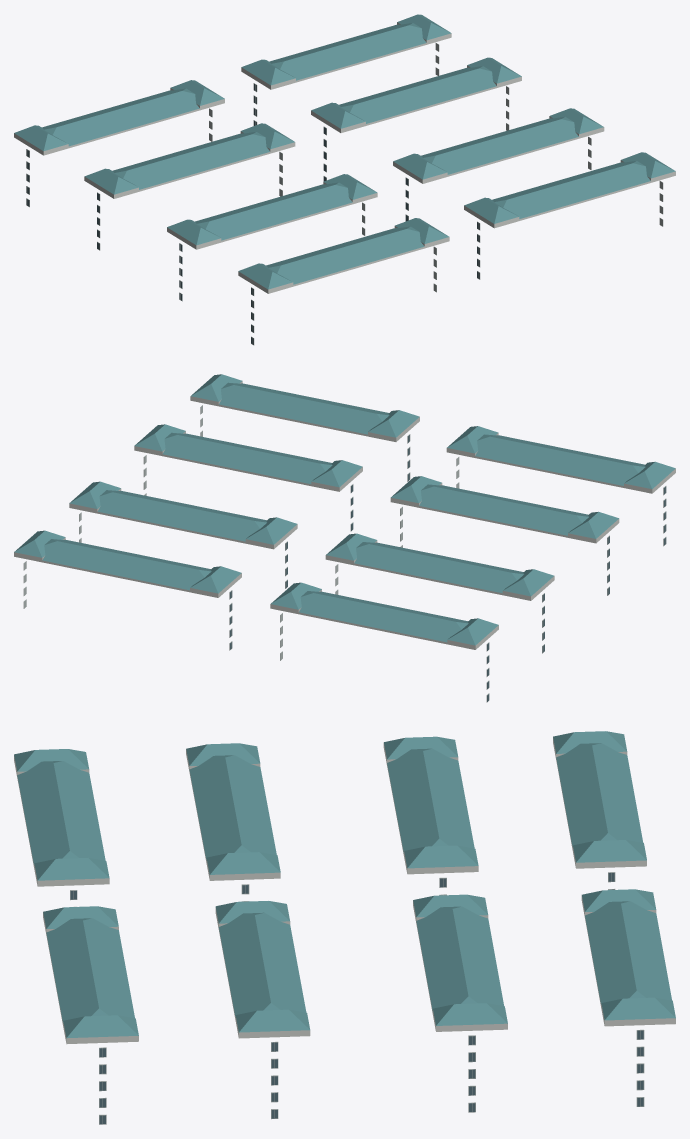
The model's file is seu_taoyuan_endheads_candidate.glb.
The picture shows the model from 3 angles, top to bottom: view 1: azimuth 30°, elevation 25°; view 2: azimuth 150°, elevation 25°; view 3: azimuth 270°, elevation 25°; orthographic projection. The views are drawn at different scales.
Visible parts, largest first — view 1: SEU_B_OSMWAY_630136428__DORM_ENDHEAD_central_roof, SEU_B_OSMWAY_630136424__DORM_ENDHEAD_central_roof, SEU_B_OSMWAY_630136426__DORM_ENDHEAD_central_roof, SEU_B_OSMWAY_630136427__DORM_ENDHEAD_central_roof, SEU_B_OSMWAY_630136422__DORM_ENDHEAD_central_roof, SEU_B_OSMWAY_630136421__DORM_ENDHEAD_central_roof, SEU_B_OSMWAY_630136423__DORM_ENDHEAD_central_roof, SEU_B_OSMWAY_630136425__DORM_ENDHEAD_central_roof, SEU_B_OSMWAY_630136428__DORM_ENDHEAD_end_hip_caps, SEU_B_OSMWAY_630136424__DORM_ENDHEAD_end_hip_caps, SEU_B_OSMWAY_630136426__DORM_ENDHEAD_end_hip_caps, SEU_B_OSMWAY_630136425__DORM_ENDHEAD_end_hip_caps (+12 smaller); view 2: SEU_B_OSMWAY_630136428__DORM_ENDHEAD_central_roof, SEU_B_OSMWAY_630136424__DORM_ENDHEAD_central_roof, SEU_B_OSMWAY_630136426__DORM_ENDHEAD_central_roof, SEU_B_OSMWAY_630136427__DORM_ENDHEAD_central_roof, SEU_B_OSMWAY_630136422__DORM_ENDHEAD_central_roof, SEU_B_OSMWAY_630136421__DORM_ENDHEAD_central_roof, SEU_B_OSMWAY_630136423__DORM_ENDHEAD_central_roof, SEU_B_OSMWAY_630136425__DORM_ENDHEAD_central_roof, SEU_B_OSMWAY_630136428__DORM_ENDHEAD_end_hip_caps, SEU_B_OSMWAY_630136424__DORM_ENDHEAD_end_hip_caps, SEU_B_OSMWAY_630136426__DORM_ENDHEAD_end_hip_caps, SEU_B_OSMWAY_630136427__DORM_ENDHEAD_end_hip_caps (+12 smaller); view 3: SEU_B_OSMWAY_630136428__DORM_ENDHEAD_central_roof, SEU_B_OSMWAY_630136424__DORM_ENDHEAD_central_roof, SEU_B_OSMWAY_630136426__DORM_ENDHEAD_central_roof, SEU_B_OSMWAY_630136427__DORM_ENDHEAD_central_roof, SEU_B_OSMWAY_630136422__DORM_ENDHEAD_central_roof, SEU_B_OSMWAY_630136423__DORM_ENDHEAD_central_roof, SEU_B_OSMWAY_630136421__DORM_ENDHEAD_central_roof, SEU_B_OSMWAY_630136425__DORM_ENDHEAD_central_roof, SEU_B_OSMWAY_630136428__DORM_ENDHEAD_end_hip_caps, SEU_B_OSMWAY_630136426__DORM_ENDHEAD_end_hip_caps, SEU_B_OSMWAY_630136424__DORM_ENDHEAD_end_hip_caps, SEU_B_OSMWAY_630136427__DORM_ENDHEAD_end_hip_caps (+12 smaller).
Part boxes in pixels (left/top/right/bottom): SEU_B_OSMWAY_630136428__DORM_ENDHEAD_central_roof: left=492, top=161, right=650, bottom=218; SEU_B_OSMWAY_630136424__DORM_ENDHEAD_central_roof: left=266, top=226, right=424, bottom=284; SEU_B_OSMWAY_630136426__DORM_ENDHEAD_central_roof: left=339, top=66, right=496, bottom=123; SEU_B_OSMWAY_630136427__DORM_ENDHEAD_central_roof: left=421, top=116, right=578, bottom=174; SEU_B_OSMWAY_630136422__DORM_ENDHEAD_central_roof: left=112, top=131, right=269, bottom=189; SEU_B_OSMWAY_630136421__DORM_ENDHEAD_central_roof: left=42, top=88, right=199, bottom=146; SEU_B_OSMWAY_630136423__DORM_ENDHEAD_central_roof: left=195, top=182, right=352, bottom=240; SEU_B_OSMWAY_630136425__DORM_ENDHEAD_central_roof: left=269, top=23, right=426, bottom=80; SEU_B_OSMWAY_630136428__DORM_ENDHEAD_end_hip_caps: left=464, top=152, right=675, bottom=223; SEU_B_OSMWAY_630136424__DORM_ENDHEAD_end_hip_caps: left=238, top=218, right=449, bottom=289; SEU_B_OSMWAY_630136426__DORM_ENDHEAD_end_hip_caps: left=311, top=57, right=521, bottom=128; SEU_B_OSMWAY_630136425__DORM_ENDHEAD_end_hip_caps: left=241, top=14, right=451, bottom=85; SEU_B_OSMWAY_630136428__DORM_ENDHEAD_central_roof: left=219, top=382, right=389, bottom=434; SEU_B_OSMWAY_630136424__DORM_ENDHEAD_central_roof: left=475, top=434, right=645, bottom=485; SEU_B_OSMWAY_630136426__DORM_ENDHEAD_central_roof: left=97, top=490, right=266, bottom=541; SEU_B_OSMWAY_630136427__DORM_ENDHEAD_central_roof: left=163, top=432, right=332, bottom=483; SEU_B_OSMWAY_630136422__DORM_ENDHEAD_central_roof: left=354, top=542, right=523, bottom=593; SEU_B_OSMWAY_630136421__DORM_ENDHEAD_central_roof: left=299, top=591, right=468, bottom=642; SEU_B_OSMWAY_630136423__DORM_ENDHEAD_central_roof: left=419, top=484, right=588, bottom=535; SEU_B_OSMWAY_630136425__DORM_ENDHEAD_central_roof: left=42, top=539, right=211, bottom=590; SEU_B_OSMWAY_630136428__DORM_ENDHEAD_end_hip_caps: left=191, top=374, right=419, bottom=437; SEU_B_OSMWAY_630136424__DORM_ENDHEAD_end_hip_caps: left=447, top=426, right=675, bottom=489; SEU_B_OSMWAY_630136426__DORM_ENDHEAD_end_hip_caps: left=69, top=481, right=296, bottom=544; SEU_B_OSMWAY_630136427__DORM_ENDHEAD_end_hip_caps: left=134, top=424, right=362, bottom=487; SEU_B_OSMWAY_630136428__DORM_ENDHEAD_central_roof: left=46, top=918, right=134, bottom=1023; SEU_B_OSMWAY_630136424__DORM_ENDHEAD_central_roof: left=17, top=761, right=105, bottom=865; SEU_B_OSMWAY_630136426__DORM_ENDHEAD_central_roof: left=416, top=906, right=503, bottom=1011; SEU_B_OSMWAY_630136427__DORM_ENDHEAD_central_roof: left=218, top=912, right=306, bottom=1017; SEU_B_OSMWAY_630136422__DORM_ENDHEAD_central_roof: left=387, top=748, right=474, bottom=852; SEU_B_OSMWAY_630136423__DORM_ENDHEAD_central_roof: left=189, top=755, right=276, bottom=860; SEU_B_OSMWAY_630136421__DORM_ENDHEAD_central_roof: left=556, top=743, right=643, bottom=846; SEU_B_OSMWAY_630136425__DORM_ENDHEAD_central_roof: left=585, top=901, right=671, bottom=1004; SEU_B_OSMWAY_630136428__DORM_ENDHEAD_end_hip_caps: left=43, top=906, right=138, bottom=1038; SEU_B_OSMWAY_630136426__DORM_ENDHEAD_end_hip_caps: left=413, top=894, right=507, bottom=1025; SEU_B_OSMWAY_630136424__DORM_ENDHEAD_end_hip_caps: left=14, top=749, right=109, bottom=880; SEU_B_OSMWAY_630136427__DORM_ENDHEAD_end_hip_caps: left=215, top=901, right=310, bottom=1032.
Bounding box in the file's own units: 125 × 19.16 × 115.
